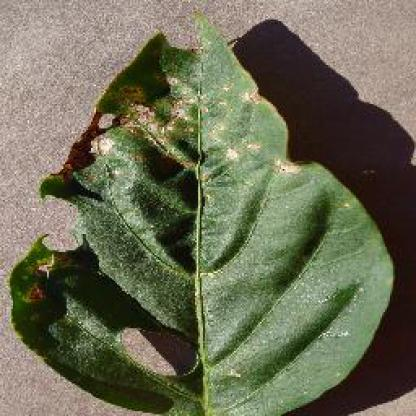bad leaf: (4, 8, 388, 409)
